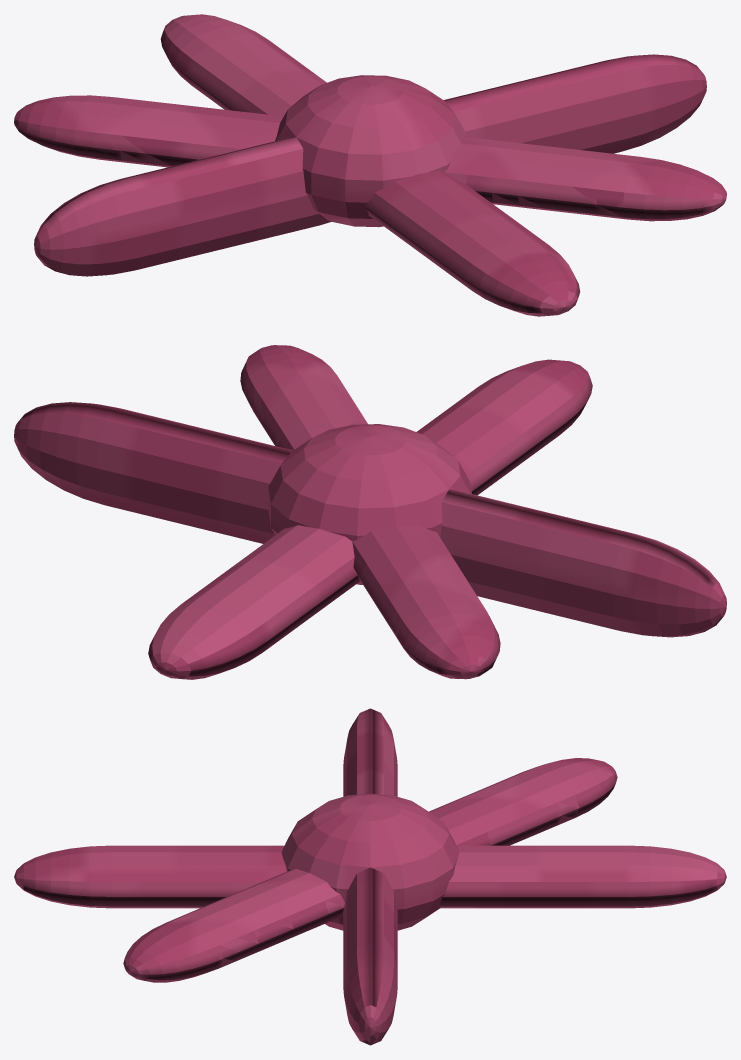
Rendered from hushbloom_signal.obj.
The picture shows the model from 3 angles, top to bottom: view 1: azimuth 30°, elevation 25°; view 2: azimuth 150°, elevation 25°; view 3: azimuth 270°, elevation 25°; orthographic projection. The views are drawn at different scales.
Size of the model in its own units: 0.98 by 0.18 by 0.98.
Materials: 1 (1 with a texture image).
